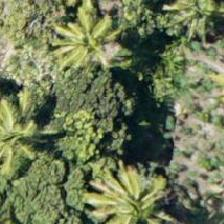coconut_tree: (43, 0, 133, 86), (83, 164, 173, 223), (0, 80, 50, 170), (149, 0, 223, 54)
